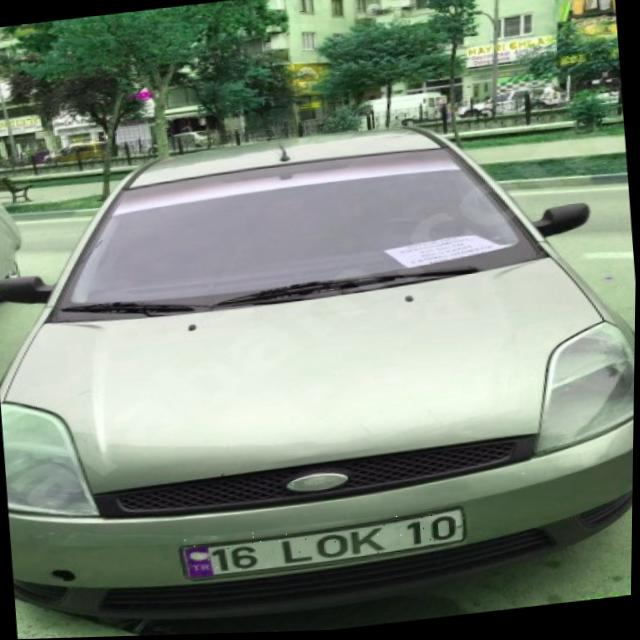license_plate: (183, 509, 469, 582)
